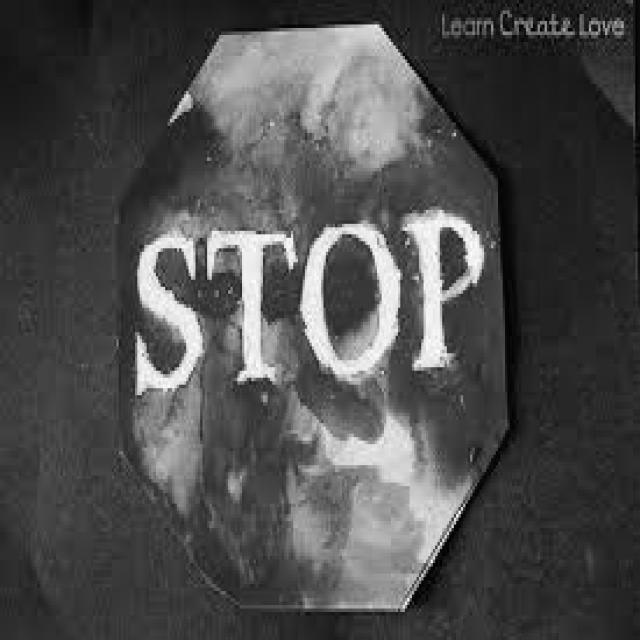stop sign: (116, 23, 508, 610)
